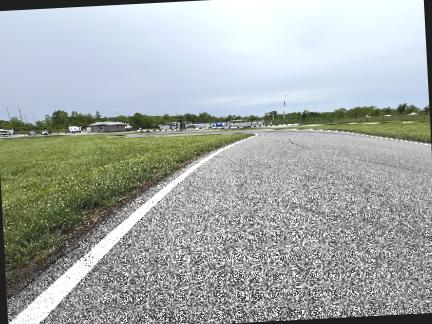Grass: (0, 134, 252, 299), (246, 122, 430, 143), (300, 122, 430, 142)
Lane: (41, 130, 431, 323)
